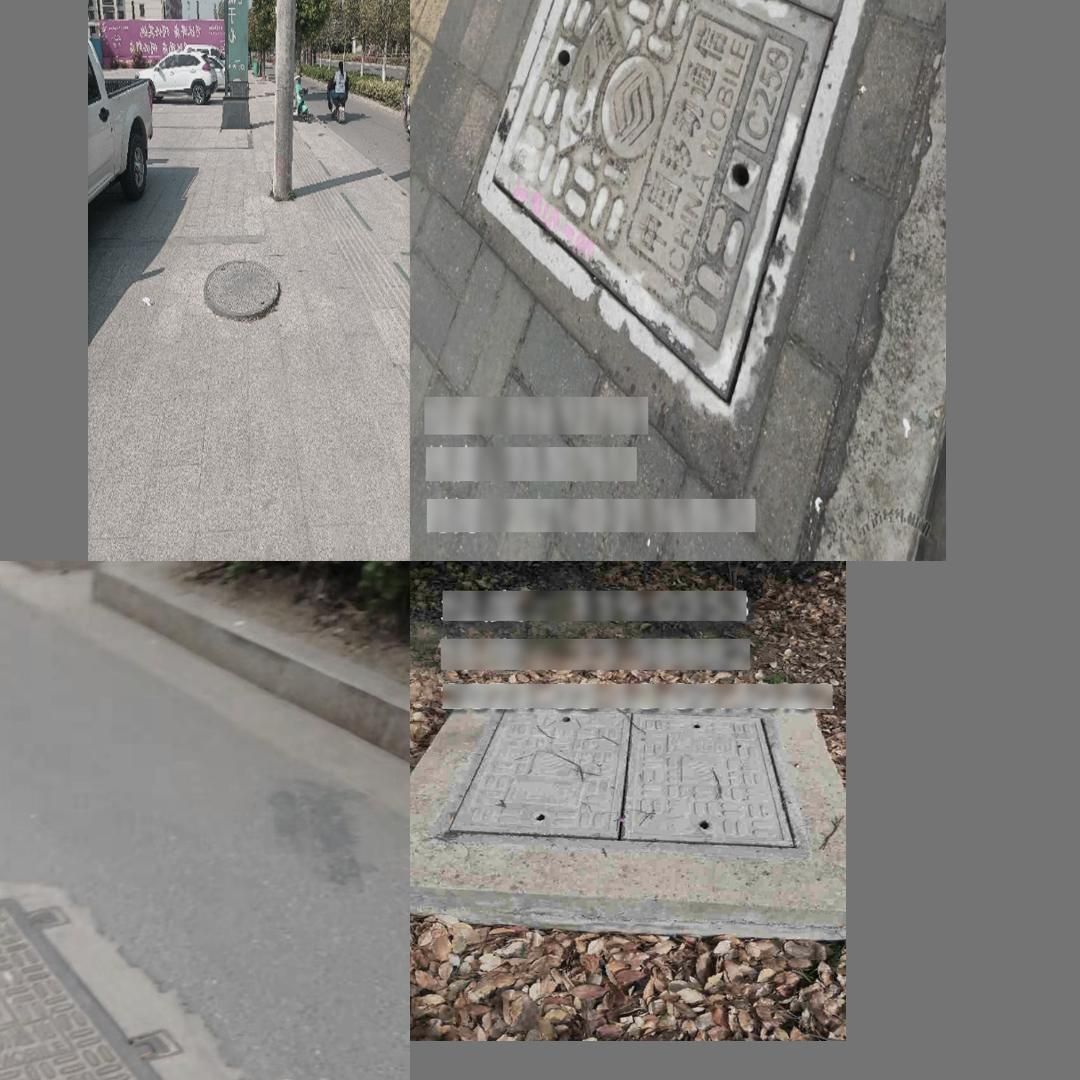good: (478, 0, 946, 424), (431, 701, 811, 856), (0, 884, 217, 1080), (204, 259, 279, 321)
